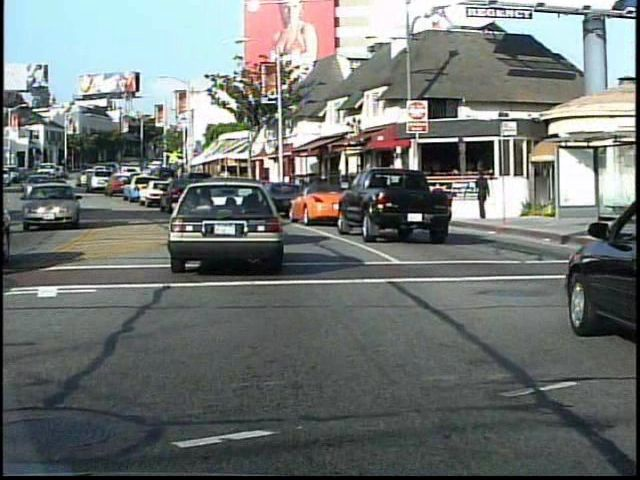person: (471, 171, 491, 225)
